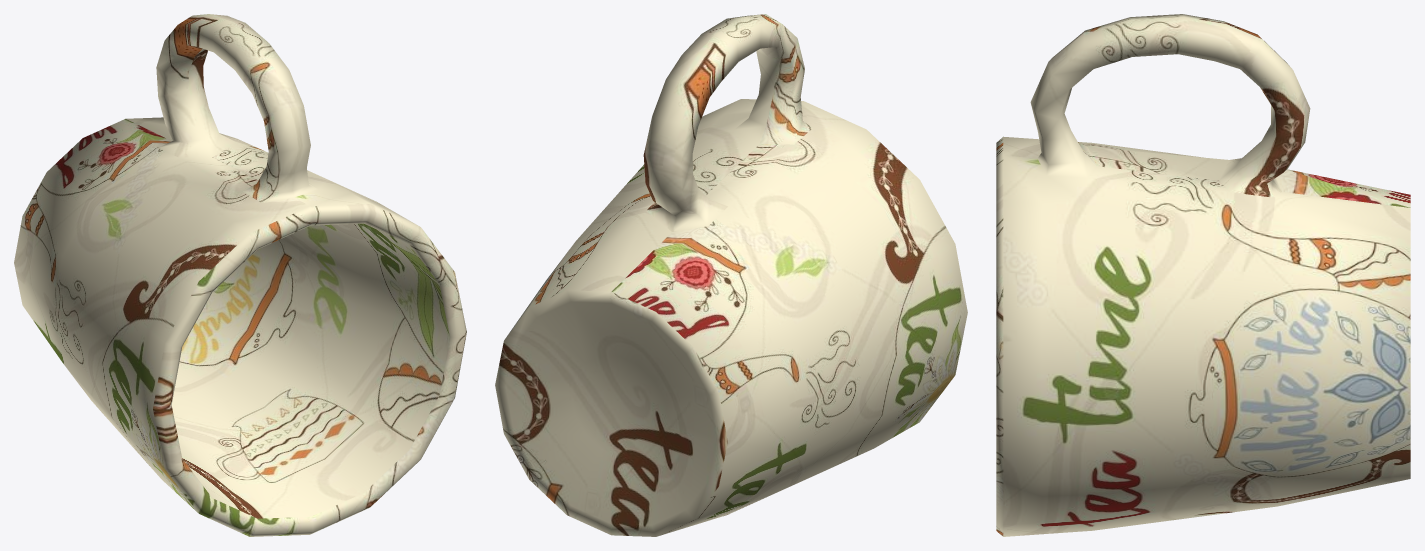
The picture shows the model from 3 angles, left to right: view 1: azimuth 30°, elevation 25°; view 2: azimuth 150°, elevation 25°; view 3: azimuth 270°, elevation 25°; orthographic projection. The views are drawn at different scales.
Bounding box in the file's own units: 0.7246 × 1 × 0.749.
